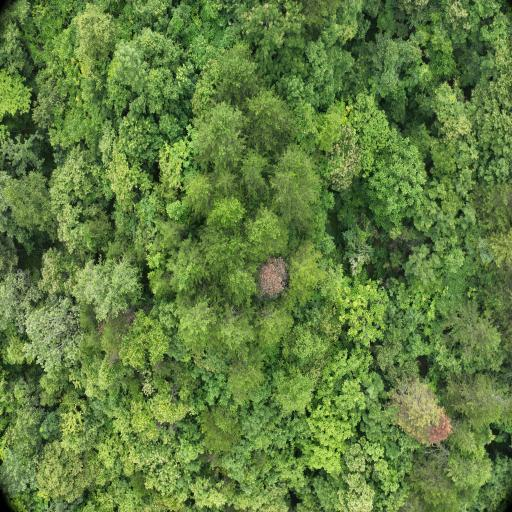sick-tree: (404, 390, 448, 443), (262, 266, 284, 298)
